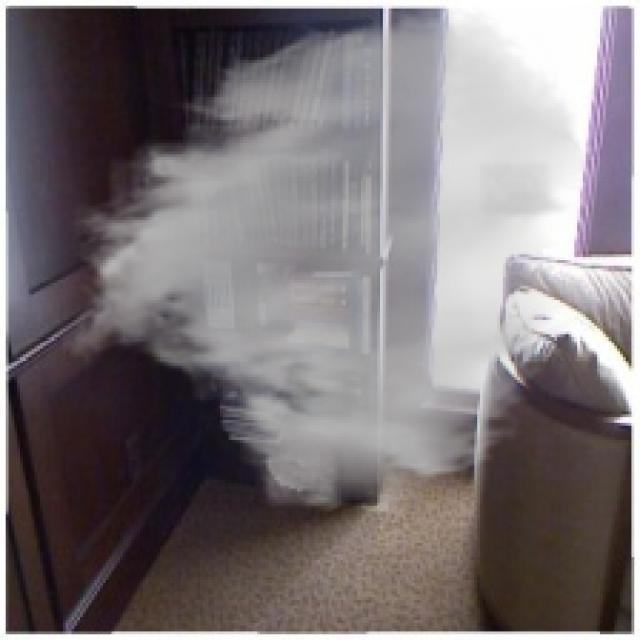Smoke: (60, 2, 589, 518)
